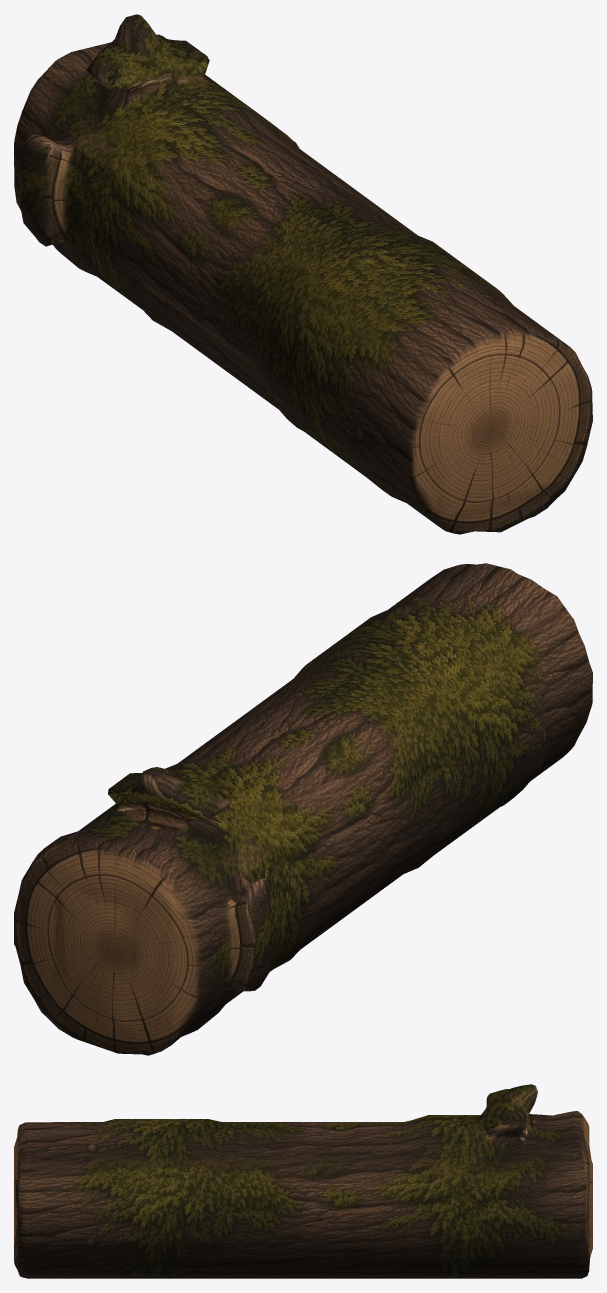
Rendered from log_cypress.glb.
The picture shows the model from 3 angles, top to bottom: view 1: azimuth 30°, elevation 25°; view 2: azimuth 150°, elevation 25°; view 3: azimuth 270°, elevation 25°; orthographic projection. The views are drawn at different scales.
Visible parts, largest first — view 1: log; view 2: log; view 3: log.
Boxes of the visible parts, x1=… form: log: x1=14, y1=14, x2=592, y2=534; log: x1=14, y1=563, x2=592, y2=1055; log: x1=14, y1=1084, x2=592, y2=1278.
Bounding box in the file's own units: 0.298 × 0.3393 × 0.9754.
Materials: 1 (1 with a texture image).
